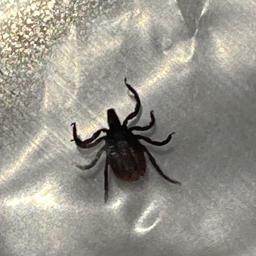Ixodes scapularis: (71, 79, 181, 201)
